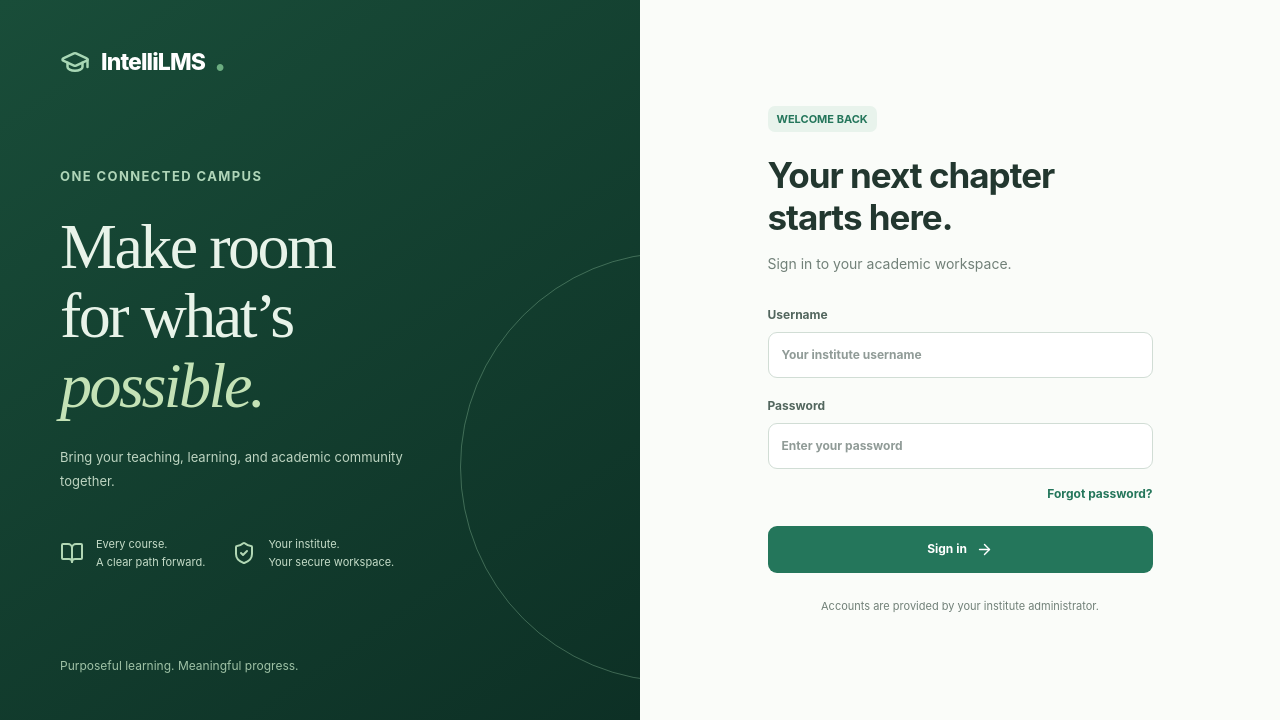
it: authentication and navigation › shows server authentication errors
Type "learner" into the field labelled "Username" at (960, 355), box x1=768 y1=332 x2=1152 y2=378
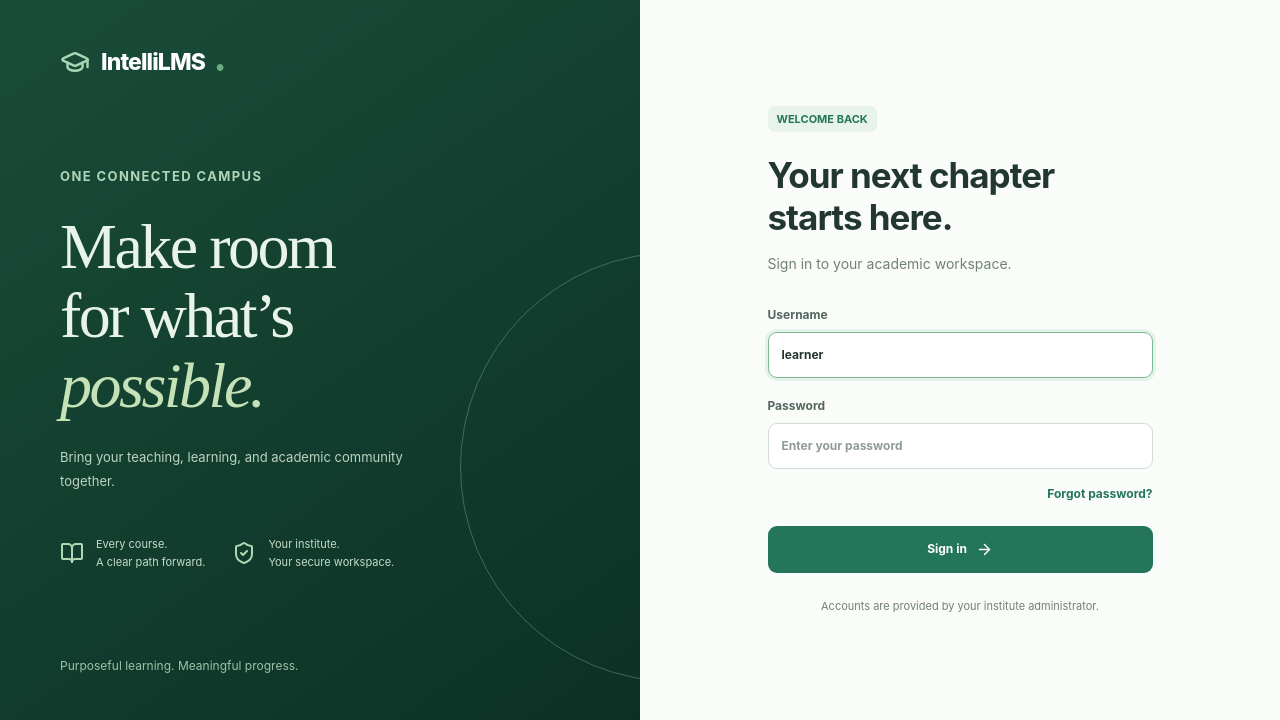
Type "bad" into the password field labelled "Password" at (960, 446), box x1=768 y1=423 x2=1152 y2=469
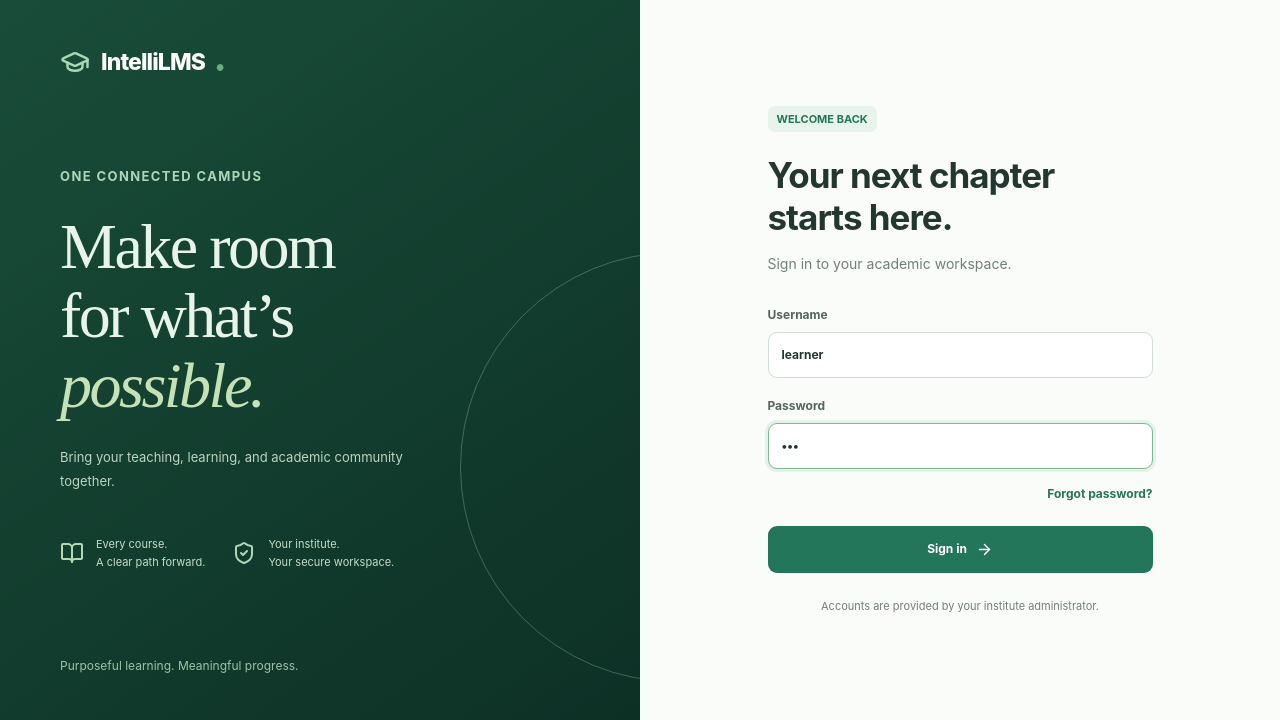
Click the button "Sign in" at (960, 549), box x1=768 y1=526 x2=1152 y2=573
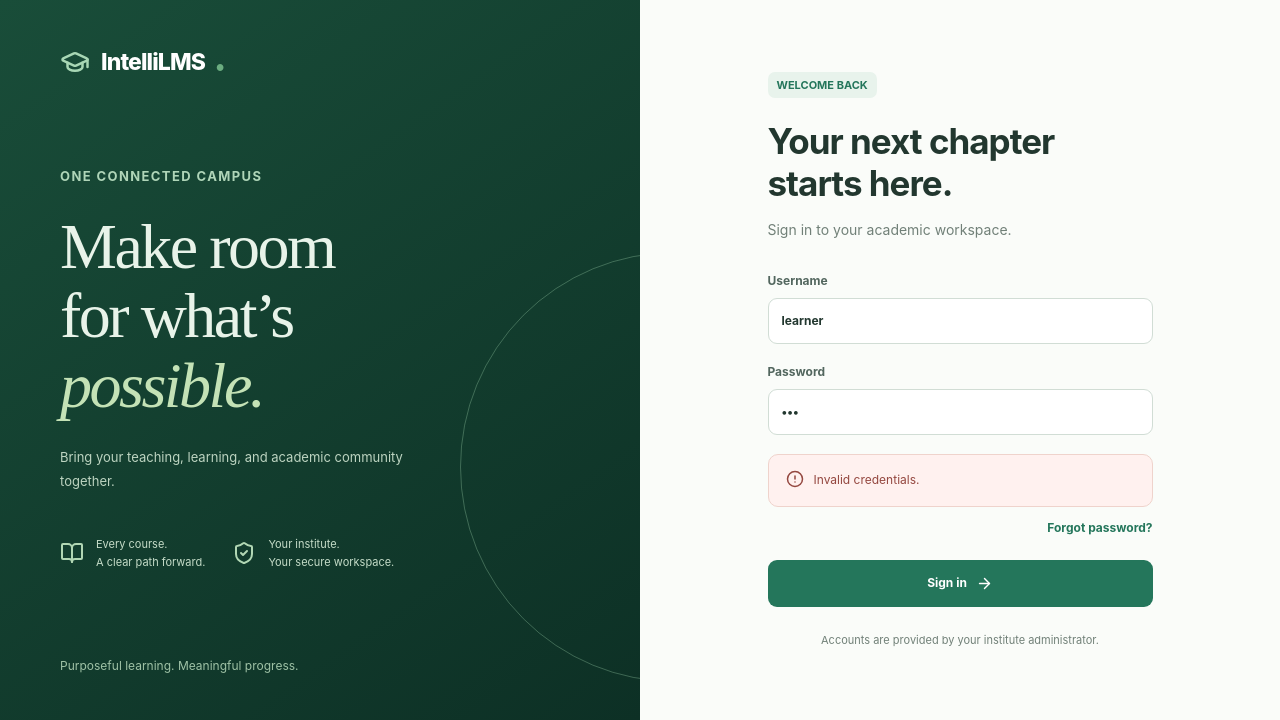
Now the message reads "Invalid credentials.", box x1=814 y1=472 x2=920 y2=487
